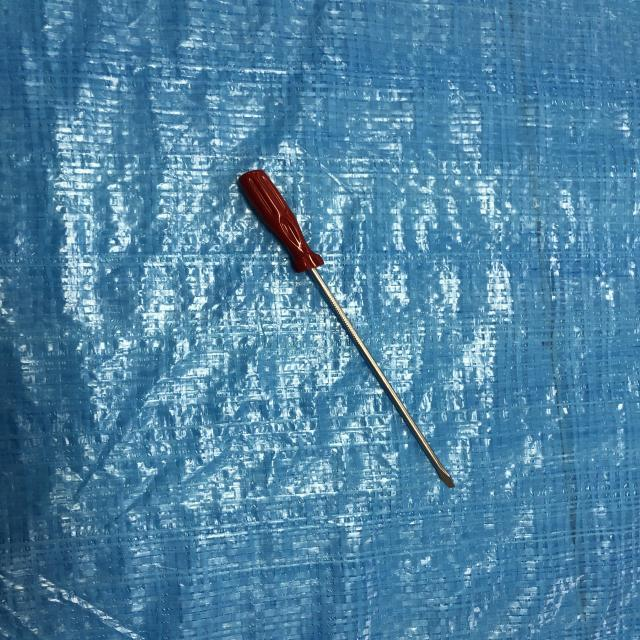screwdriver: (237, 168, 459, 486)
